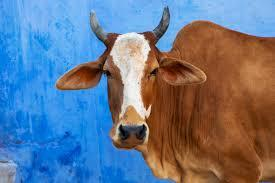cow: (56, 5, 275, 183)
